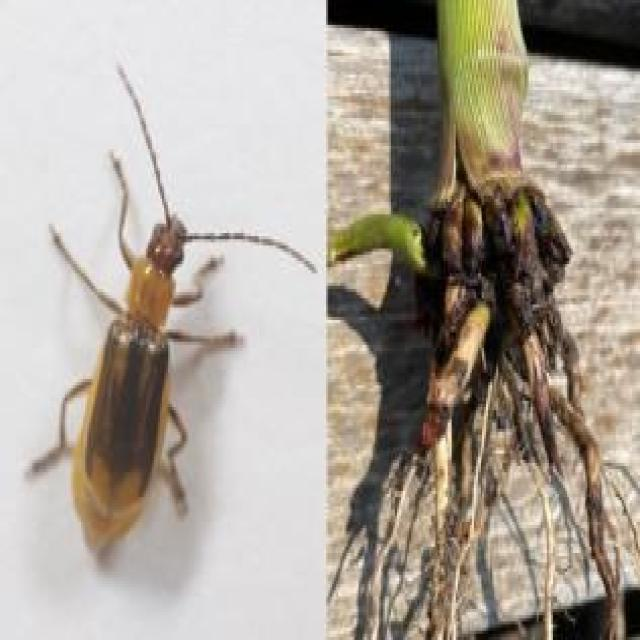trips: (35, 56, 240, 568)
